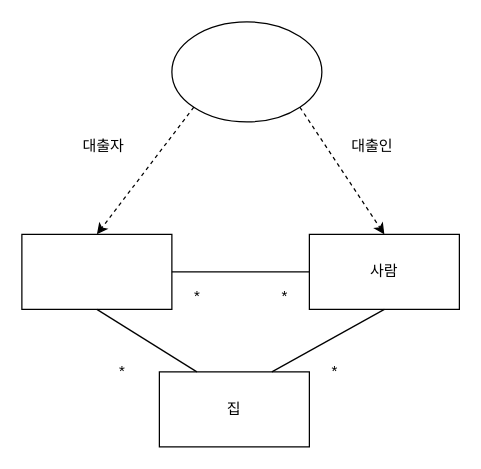
The diagram is 481 pixels wide and 469 high, and some of its shapes have lost their labels. The centre of each missing label's shape, as x and y in pixels:
담보 대출: [246,71]
은행: [96,271]
